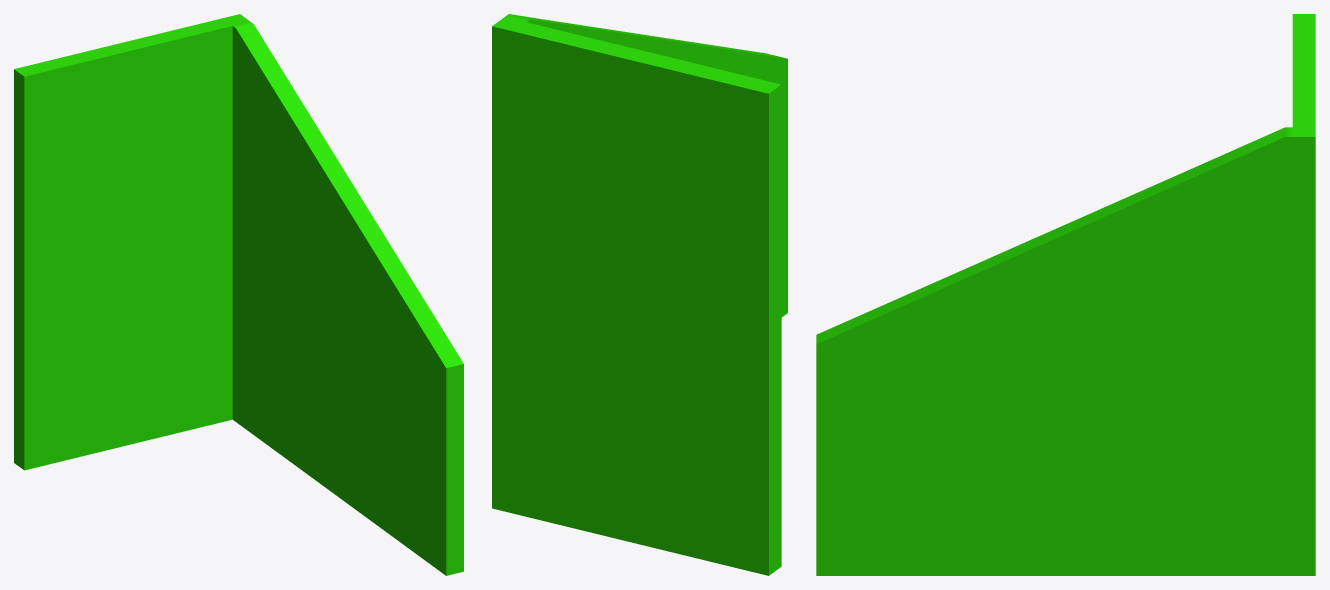
The model's file is BH03_Wall_Int_07.fbx.
3 renders of one model, left to right at view 1: azimuth 30°, elevation 25°; view 2: azimuth 150°, elevation 25°; view 3: azimuth 270°, elevation 25°, orthographic. The views are drawn at different scales.
Parts seen in each view (by area): view 1: BH03_Wall_Int_07; view 2: BH03_Wall_Int_07; view 3: BH03_Wall_Int_07.
Part boxes in pixels (x1=…): BH03_Wall_Int_07: x1=14, y1=14, x2=463, y2=575; BH03_Wall_Int_07: x1=492, y1=14, x2=787, y2=575; BH03_Wall_Int_07: x1=816, y1=14, x2=1315, y2=575.
Size of the model in its own units: 180 by 300 by 309.
